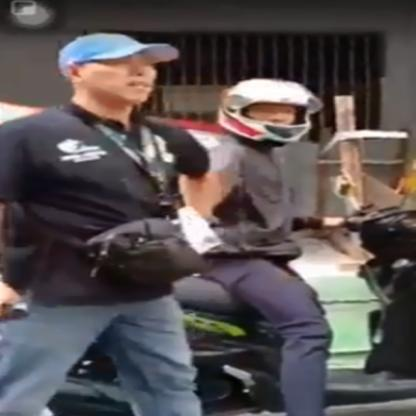helmet: (217, 78, 324, 145)
nohelmet: (56, 31, 181, 106)
